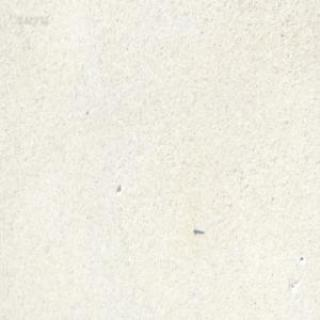Nailtrack_idkeyframe: (192, 227, 204, 235)
